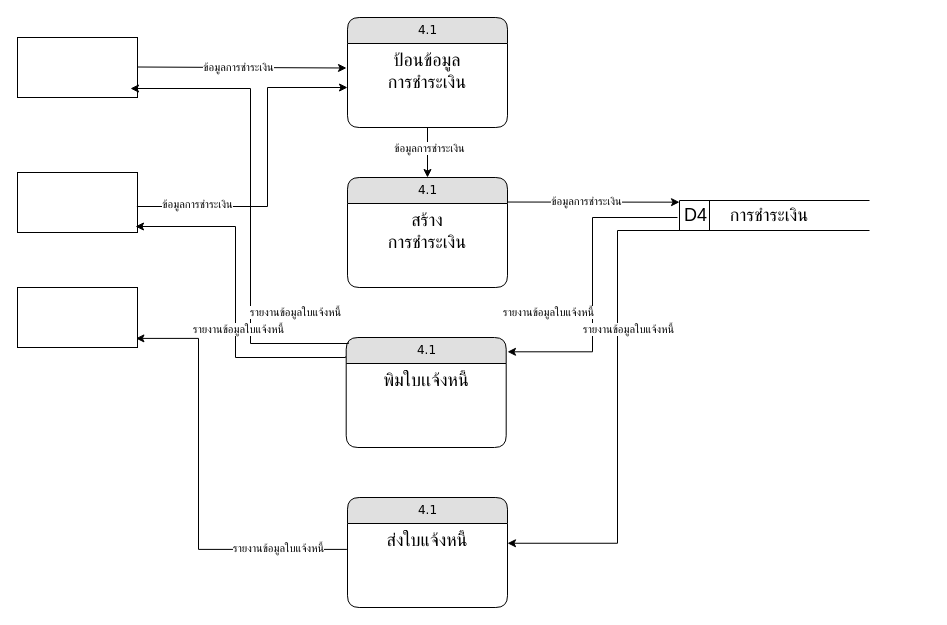
Image size: 947x625. Some labels were removed from this diagram. The shapes that lost their labels are listed below. From the top down, each one's centre as x and y in pixels, then its label:
At (77,67): "ผู้ใช้".
At (77,202): "สมาชิก".
At (77,317): "ลูกค้า".
